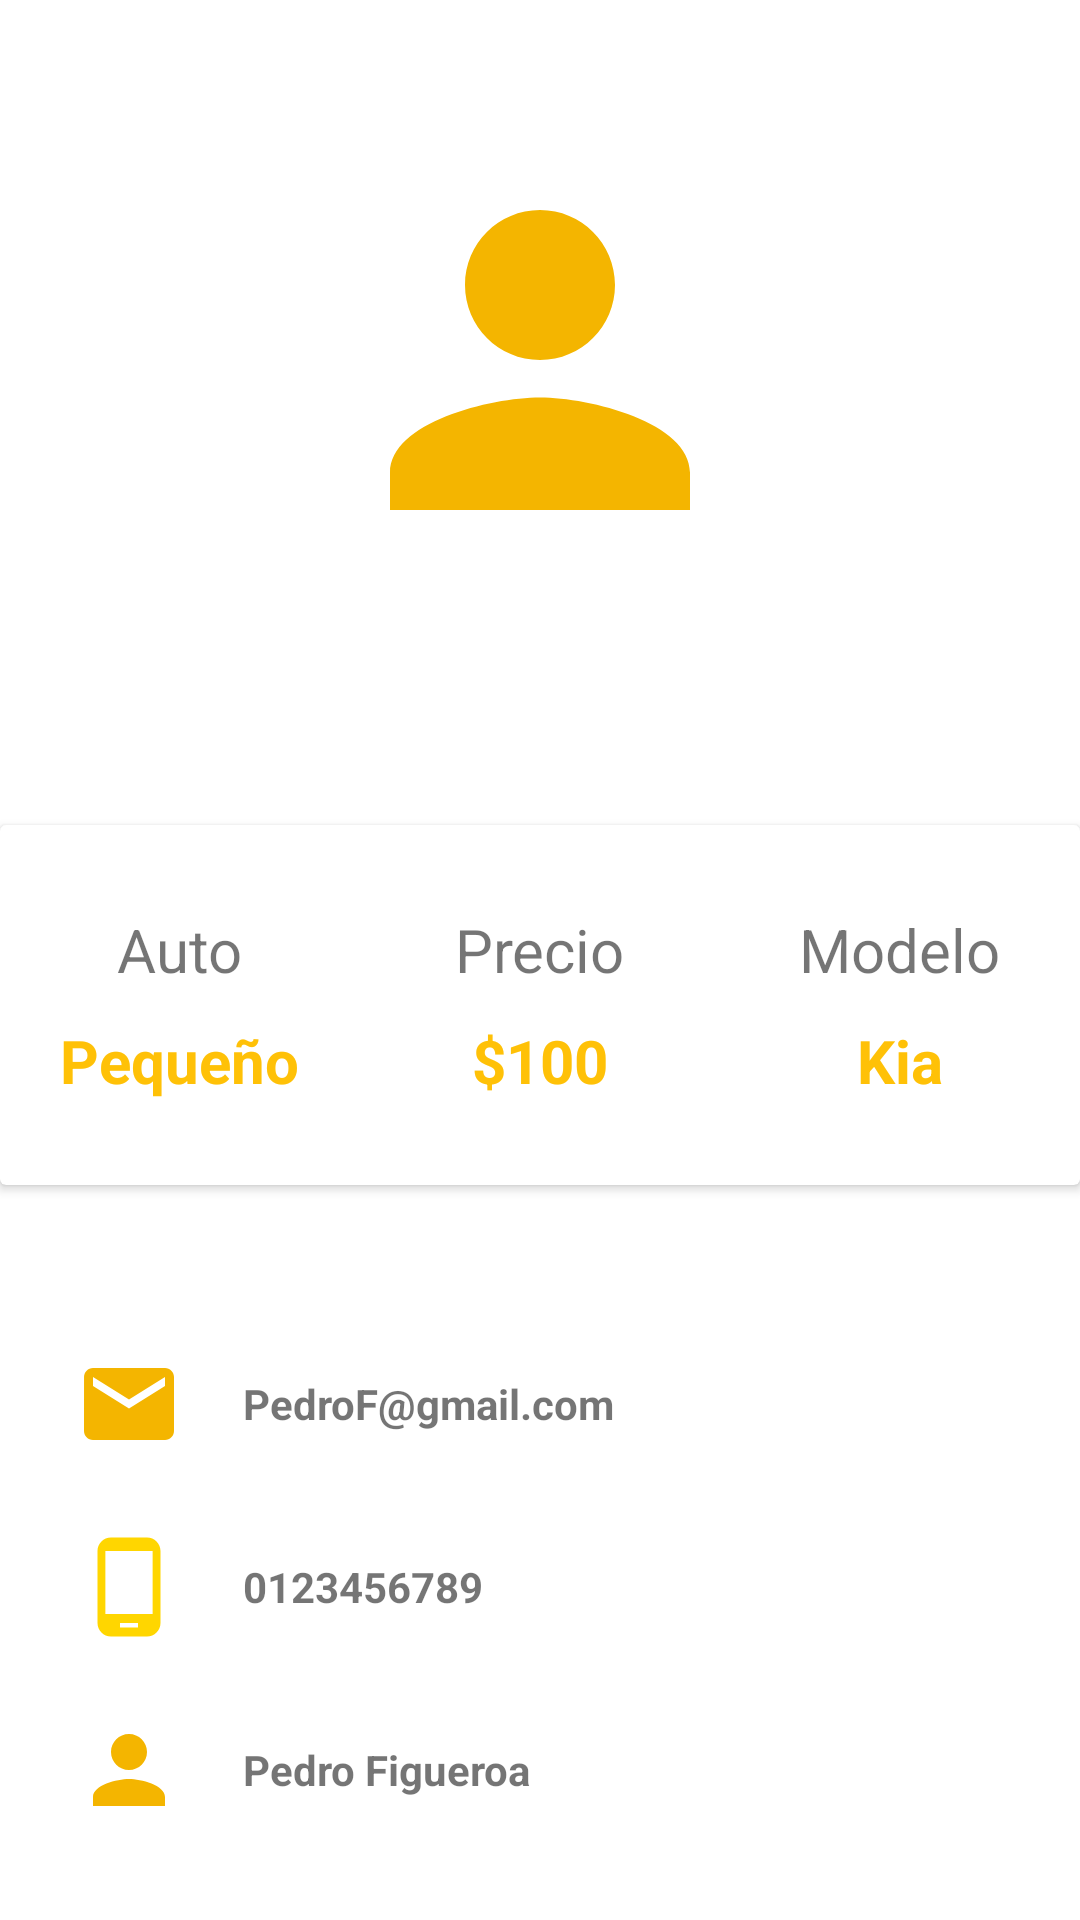

Icons on this 1080px×1920px Android screen, each with the point to tap as (x=x, y=y):
email: (x=129, y=1404)
person: (x=540, y=360), (x=129, y=1770)
phone android: (x=129, y=1587)
